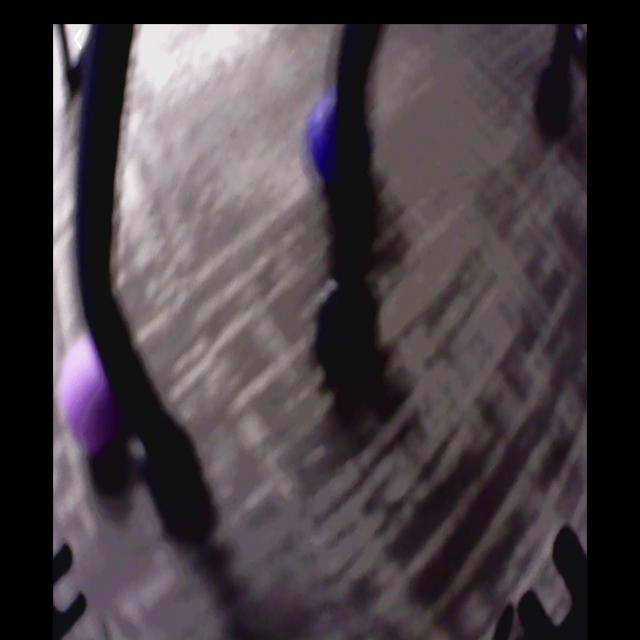ball: (62, 336, 110, 448), (310, 98, 359, 181)
